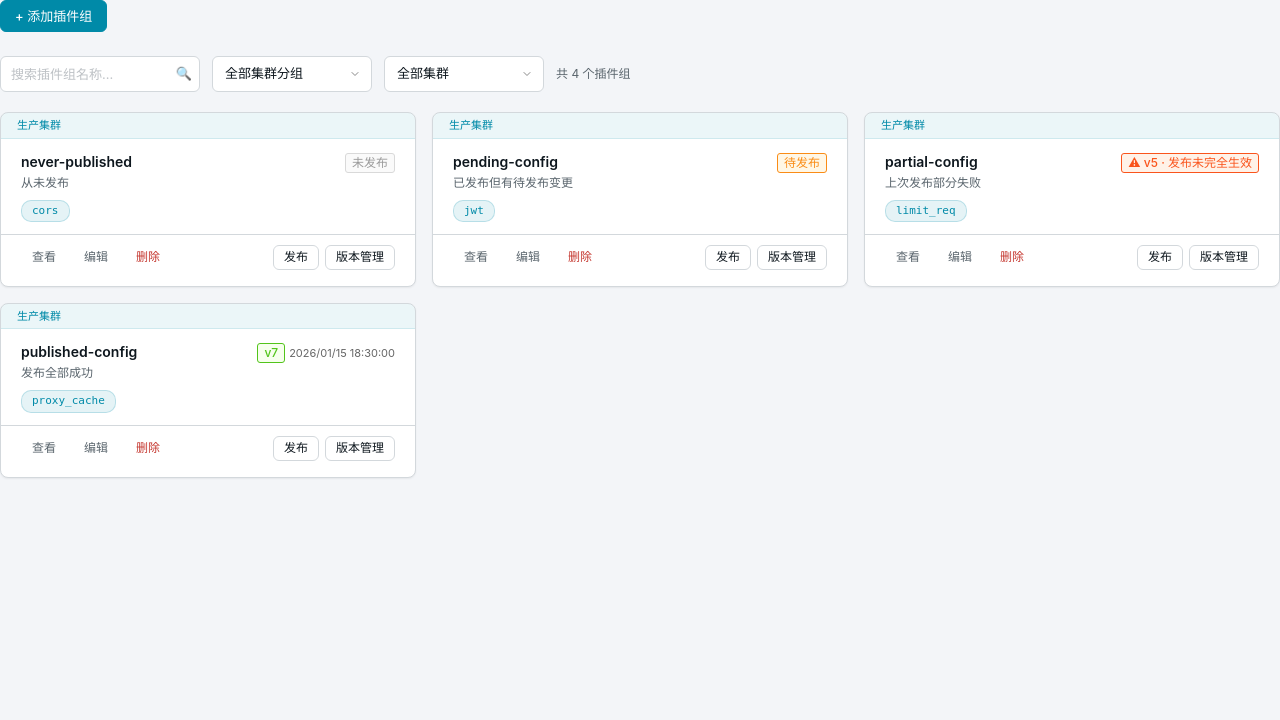
Test: PluginConfigList.vue — 发布确认弹窗（5.5：资源名 + 新版本号说明） › 已发布插件组：标题携带资源名，内容说明「本次发布将创建新版本 v8」
Click the button "发布" below "proxy_cache".
click(296, 448)  # box 273,436 -> 319,461
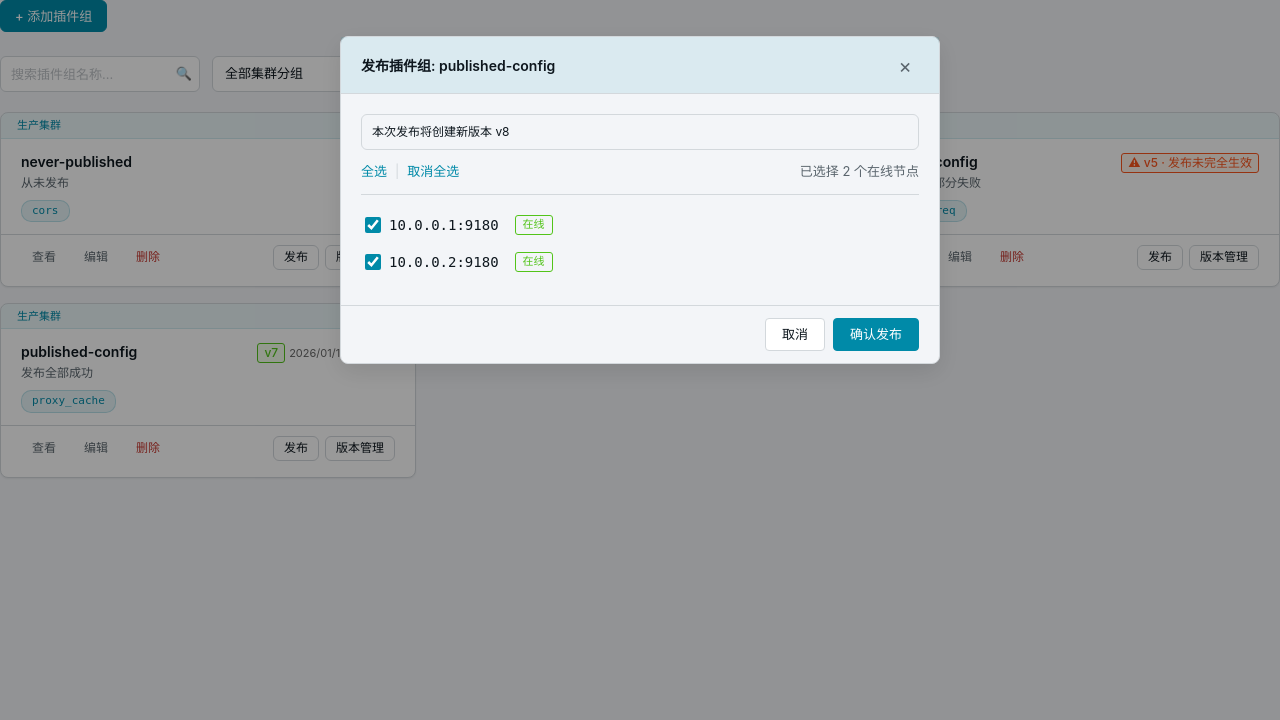
Check: the heading "发布插件组: published-config" is shown, box 361,54 -> 555,76
Check: the text "本次发布将创建新版本 v8" is shown, box 361,114 -> 919,150
